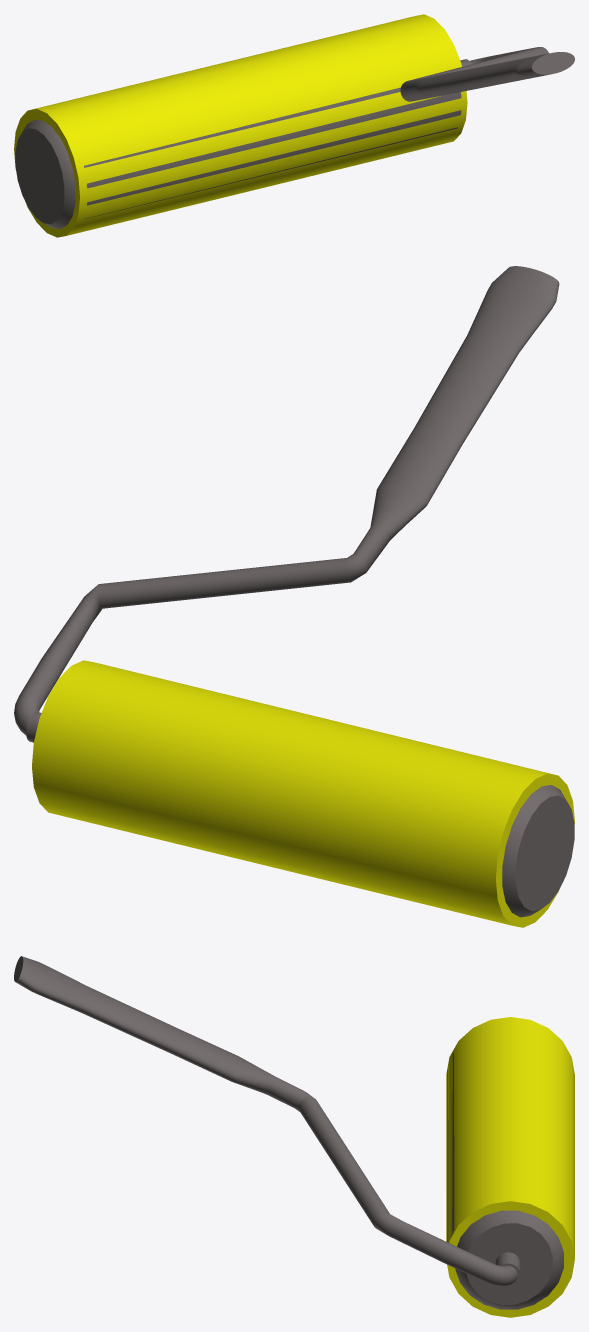
The model's file is PaintRollBlue.fbx.
3 renders of one model, top to bottom at view 1: azimuth 30°, elevation 25°; view 2: azimuth 150°, elevation 25°; view 3: azimuth 270°, elevation 25°, orthographic. The views are drawn at different scales.
Parts seen in each view (by area): view 1: pCylinder5, pCylinder4; view 2: pCylinder5, pCylinder4; view 3: pCylinder5, pCylinder4.
Part boxes in pixels (left/top/right/bottom): pCylinder5: left=14, top=14, right=467, bottom=237; pCylinder4: left=15, top=47, right=574, bottom=229; pCylinder5: left=32, top=660, right=574, bottom=927; pCylinder4: left=14, top=266, right=574, bottom=917; pCylinder5: left=446, top=1017, right=574, bottom=1317; pCylinder4: left=14, top=956, right=563, bottom=1309.
Bounding box in the file's own units: 4.01 × 2.56 × 4.43.
